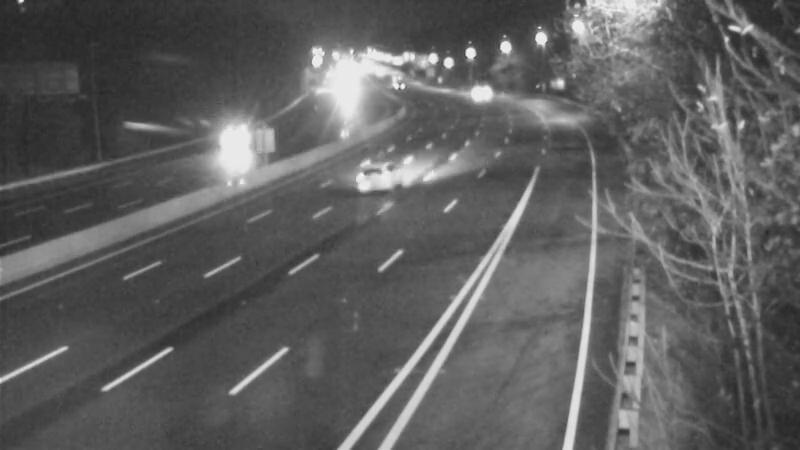vehicle: (339, 133, 419, 213), (371, 56, 421, 106), (452, 67, 502, 117), (217, 117, 267, 167)
